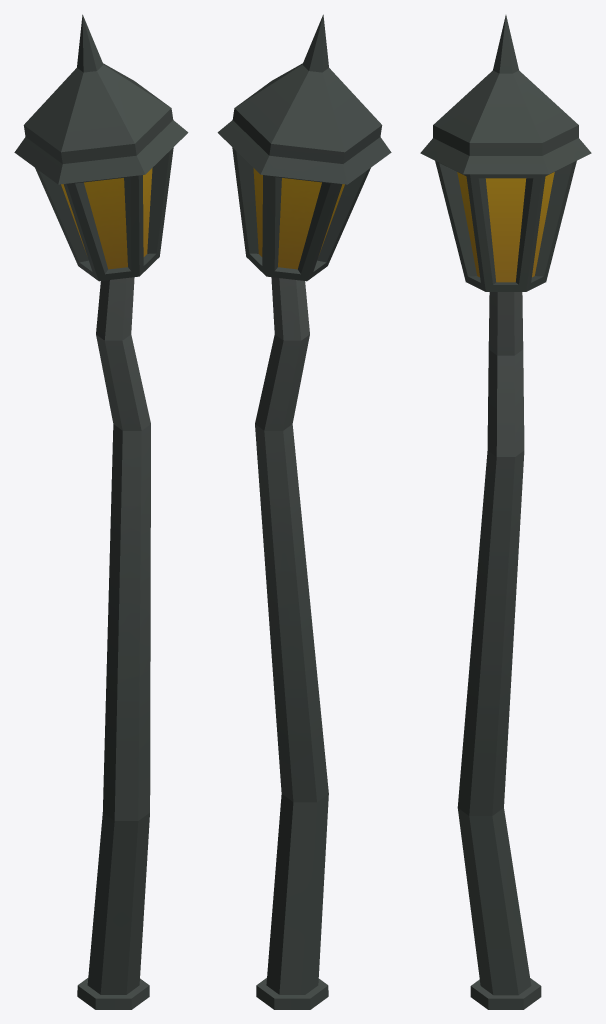
File: Street_lamp_04.fbx
The picture shows the model from 3 angles, left to right: view 1: azimuth 30°, elevation 25°; view 2: azimuth 150°, elevation 25°; view 3: azimuth 270°, elevation 25°; orthographic projection. The views are drawn at different scales.
Visible parts, largest first — view 1: Street_lamp_2.001; view 2: Street_lamp_2.001; view 3: Street_lamp_2.001.
Boxes of the visible parts, x1=… form: Street_lamp_2.001: x1=14, y1=14, x2=188, y2=1009; Street_lamp_2.001: x1=217, y1=14, x2=391, y2=1009; Street_lamp_2.001: x1=420, y1=15, x2=591, y2=1009.
Size of the model in its own units: 0.9454 by 6.87 by 1.1.
